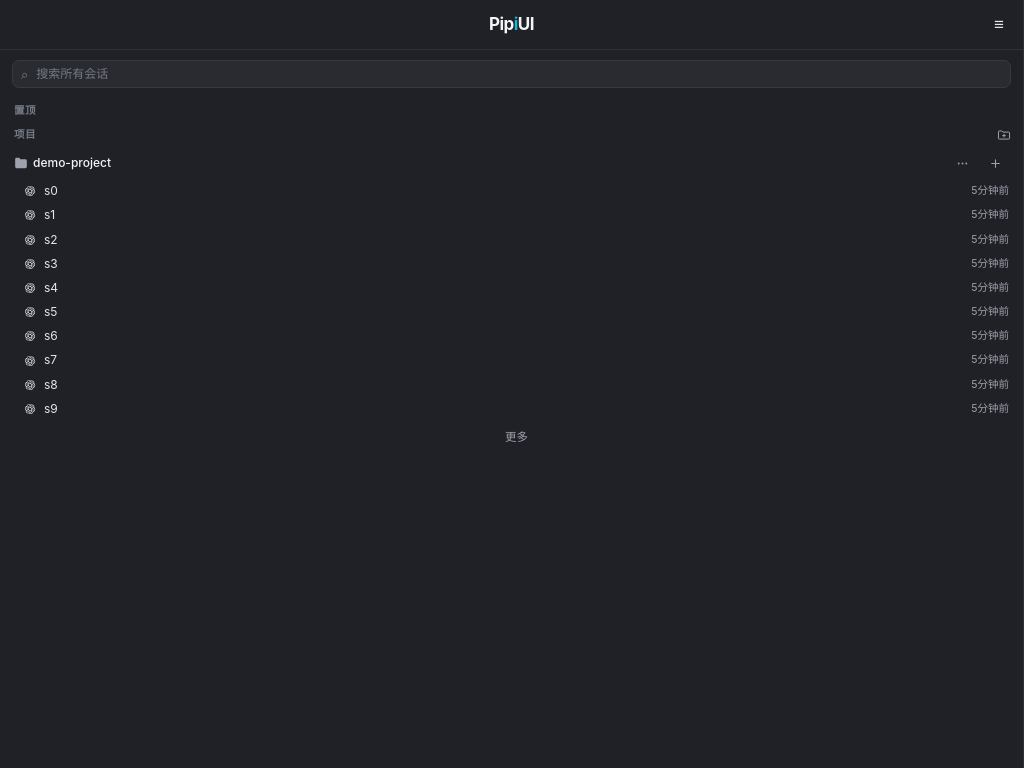
it: Sidebar › paginates per-project sessions: 10 default, 更多 reveals a page, then 收起 collapses
This screenshot has width=1024, height=768.
# Click 更多 → reveals another page (capped at the 15-session total).
Step 1. Click the button with test id "show-more-sessions" → (516, 438), box [18,426,1015,450]
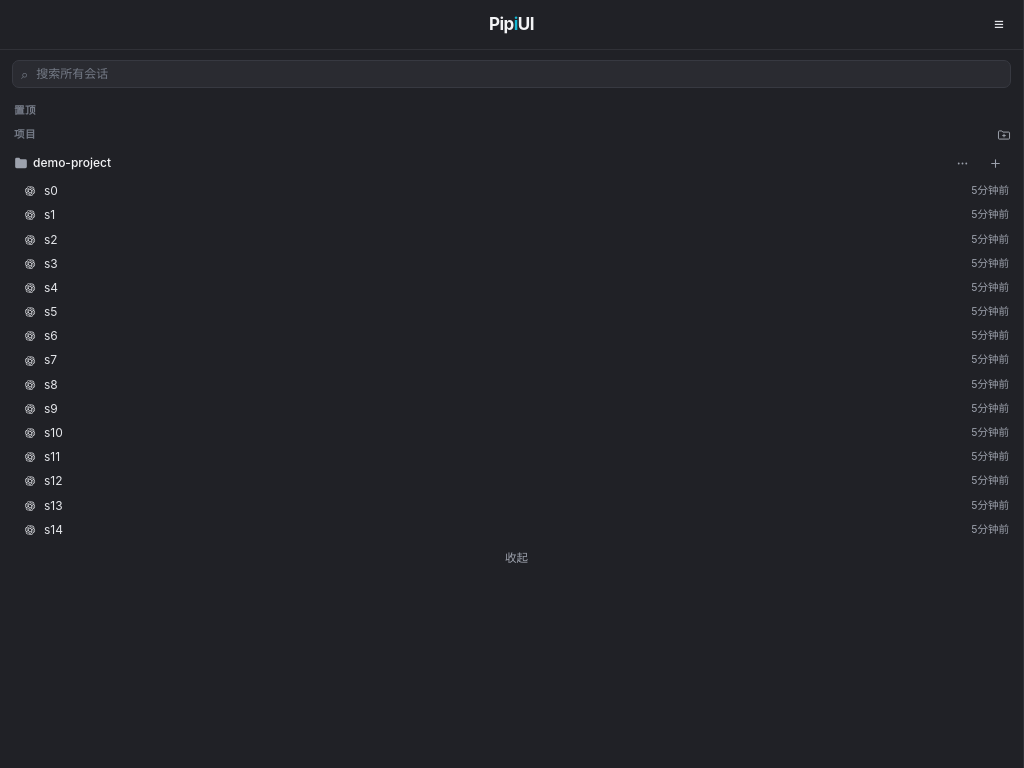
Check: the button with test id "show-more-sessions" reads "收起"
# Click 收起 → back to the 10-row cap.
Step 2. Click the button with test id "show-more-sessions" → (516, 559), box [18,547,1015,570]
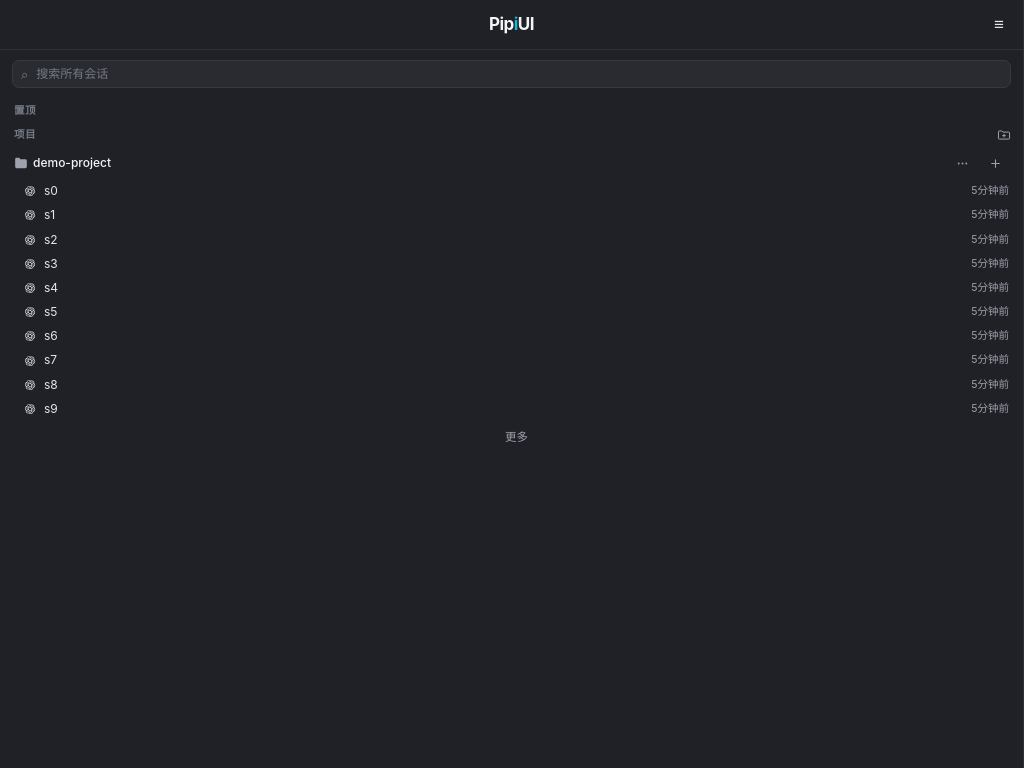
Check: the button with test id "show-more-sessions" reads "更多", box [18,426,1015,450]
